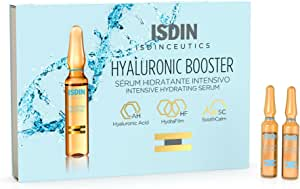Medicine: (5, 2, 253, 182), (64, 23, 92, 166), (259, 84, 279, 178), (281, 84, 299, 183)
